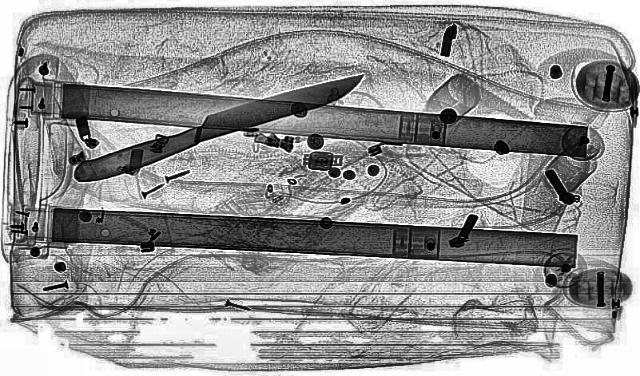Knife: (56, 66, 382, 186)
